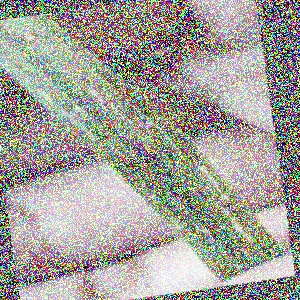Brown_Spot: (67, 54, 132, 124), (89, 122, 130, 171), (9, 26, 45, 50)
